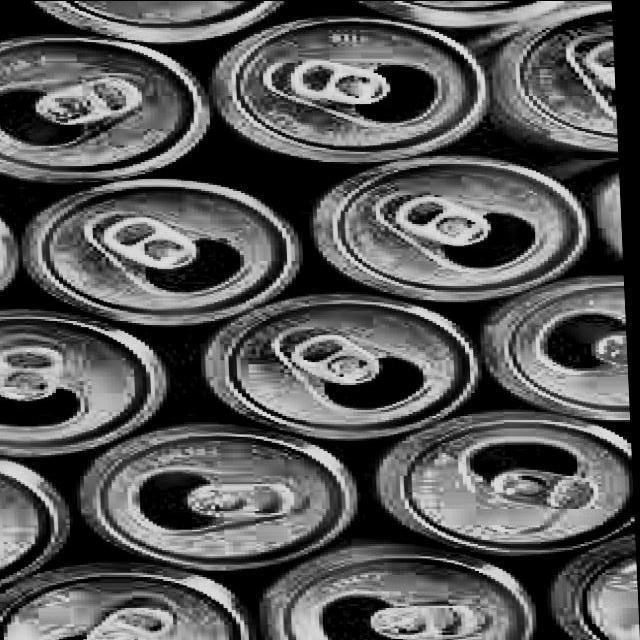litter: (66, 418, 372, 574), (195, 288, 494, 442), (209, 11, 496, 167), (23, 173, 304, 330), (308, 152, 596, 304), (356, 406, 637, 561), (0, 35, 217, 188), (251, 541, 544, 640), (0, 307, 182, 464), (472, 271, 632, 419), (0, 559, 267, 640), (496, 0, 624, 159), (0, 448, 82, 598), (32, 0, 298, 44)
